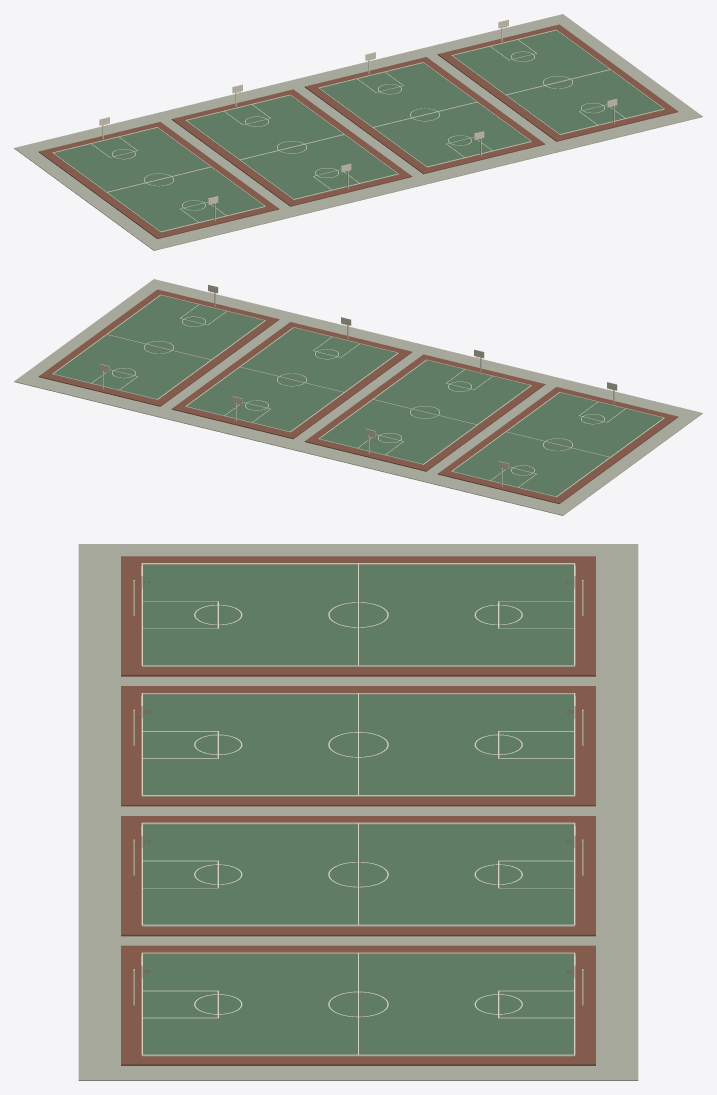
The model's file is basket_B_west_south.glb.
3 renders of one model, top to bottom at view 1: azimuth 30°, elevation 25°; view 2: azimuth 150°, elevation 25°; view 3: azimuth 270°, elevation 25°, orthographic. The views are drawn at different scales.
Parts seen in each view (by area): view 1: PavedSurround, Court_1_CourtInfield, Court_2_CourtInfield, Court_3_CourtInfield, Court_4_CourtInfield, Court_2_CourtRed, Court_3_CourtRed, Court_4_CourtRed, Court_1_CourtRed, Court_2_CourtLines, Court_1_CourtLines, Court_3_CourtLines (+1 smaller); view 2: PavedSurround, Court_1_CourtInfield, Court_2_CourtInfield, Court_3_CourtInfield, Court_4_CourtInfield, Court_2_CourtRed, Court_3_CourtRed, Court_4_CourtRed, Court_1_CourtRed, Court_2_CourtLines, Court_1_CourtLines, Court_3_CourtLines (+1 smaller); view 3: PavedSurround, Court_1_CourtInfield, Court_2_CourtInfield, Court_4_CourtInfield, Court_3_CourtInfield, Court_3_CourtRed, Court_4_CourtRed, Court_2_CourtRed, Court_1_CourtRed, Court_3_CourtLines, Court_4_CourtLines, Court_2_CourtLines (+1 smaller).
Boxes of the visible parts, <box> form: PavedSurround: <box>14,14,702,250</box>; Court_1_CourtInfield: <box>54,128,263,231</box>; Court_2_CourtInfield: <box>187,95,396,198</box>; Court_3_CourtInfield: <box>320,63,529,166</box>; Court_4_CourtInfield: <box>453,30,662,133</box>; Court_2_CourtRed: <box>171,89,412,206</box>; Court_3_CourtRed: <box>305,57,545,174</box>; Court_4_CourtRed: <box>437,24,678,141</box>; Court_1_CourtRed: <box>38,122,279,238</box>; Court_2_CourtLines: <box>185,94,398,199</box>; Court_1_CourtLines: <box>52,127,265,232</box>; Court_3_CourtLines: <box>318,62,531,167</box>; PavedSurround: <box>14,279,702,515</box>; Court_1_CourtInfield: <box>453,393,662,496</box>; Court_2_CourtInfield: <box>320,360,529,463</box>; Court_3_CourtInfield: <box>187,328,396,431</box>; Court_4_CourtInfield: <box>54,295,263,398</box>; Court_2_CourtRed: <box>304,354,545,471</box>; Court_3_CourtRed: <box>171,322,411,439</box>; Court_4_CourtRed: <box>38,289,279,406</box>; Court_1_CourtRed: <box>437,387,678,503</box>; Court_2_CourtLines: <box>318,359,531,464</box>; Court_1_CourtLines: <box>451,392,664,497</box>; Court_3_CourtLines: <box>185,327,398,432</box>; PavedSurround: <box>78,544,638,1080</box>; Court_1_CourtInfield: <box>143,564,573,665</box>; Court_2_CourtInfield: <box>143,694,573,794</box>; Court_4_CourtInfield: <box>143,954,573,1054</box>; Court_3_CourtInfield: <box>143,824,573,924</box>; Court_3_CourtRed: <box>121,816,595,936</box>; Court_4_CourtRed: <box>121,945,595,1065</box>; Court_2_CourtRed: <box>121,686,595,806</box>; Court_1_CourtRed: <box>121,556,595,676</box>; Court_3_CourtLines: <box>141,822,575,926</box>; Court_4_CourtLines: <box>141,952,575,1056</box>; Court_2_CourtLines: <box>141,693,575,796</box>.
Size of the model in its own units: 96.95 by 3.97 by 42.81.
